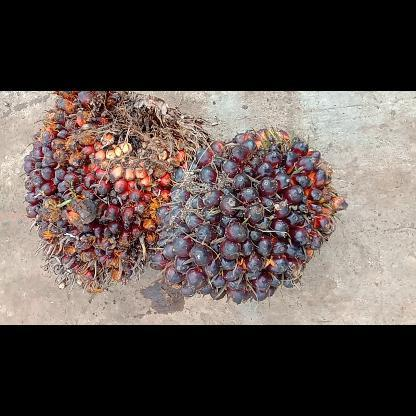TBS masak: (22, 90, 214, 292)
TBS mentah: (150, 126, 346, 302)
